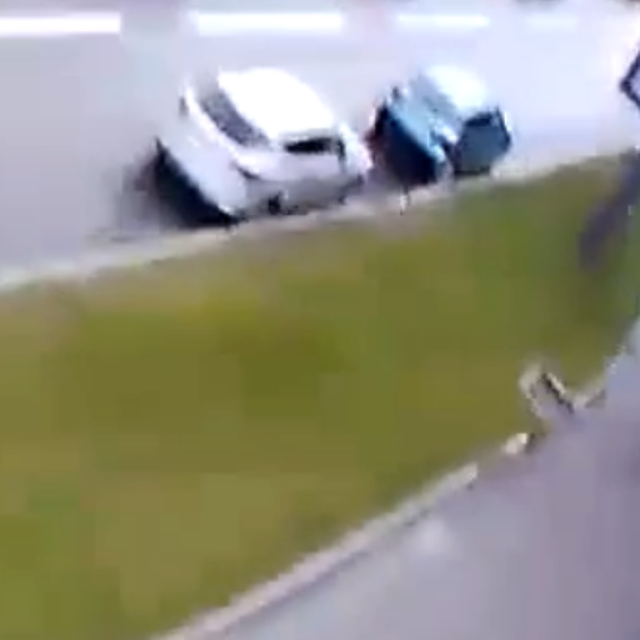car: (153, 67, 374, 221), (378, 64, 512, 177)
